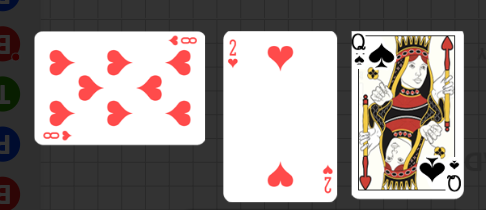2H: (321, 163, 334, 194)
8H: (166, 34, 198, 47), (42, 129, 73, 141)
